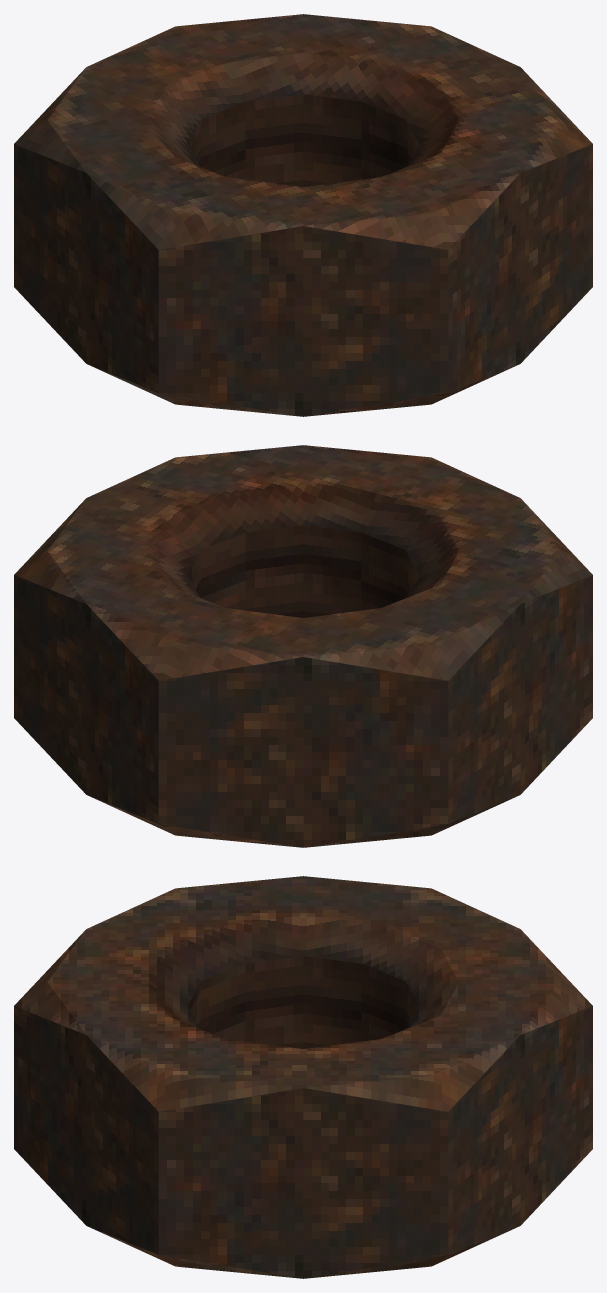
File: hexagon_nut_mx_1.glb
3 views of the same model, one above another, from view 1: azimuth 30°, elevation 25°; view 2: azimuth 150°, elevation 25°; view 3: azimuth 270°, elevation 25° (orthographic).
Visible parts, largest first — view 1: hexagon_nut_mx_1; view 2: hexagon_nut_mx_1; view 3: hexagon_nut_mx_1.
Part boxes in pixels (<box>): hexagon_nut_mx_1: <box>14,14,592,416</box>; hexagon_nut_mx_1: <box>14,445,592,847</box>; hexagon_nut_mx_1: <box>14,876,592,1278</box>.
Bounding box in the file's own units: 0.1905 × 0.08 × 0.22.
1 material, 1 textured.
